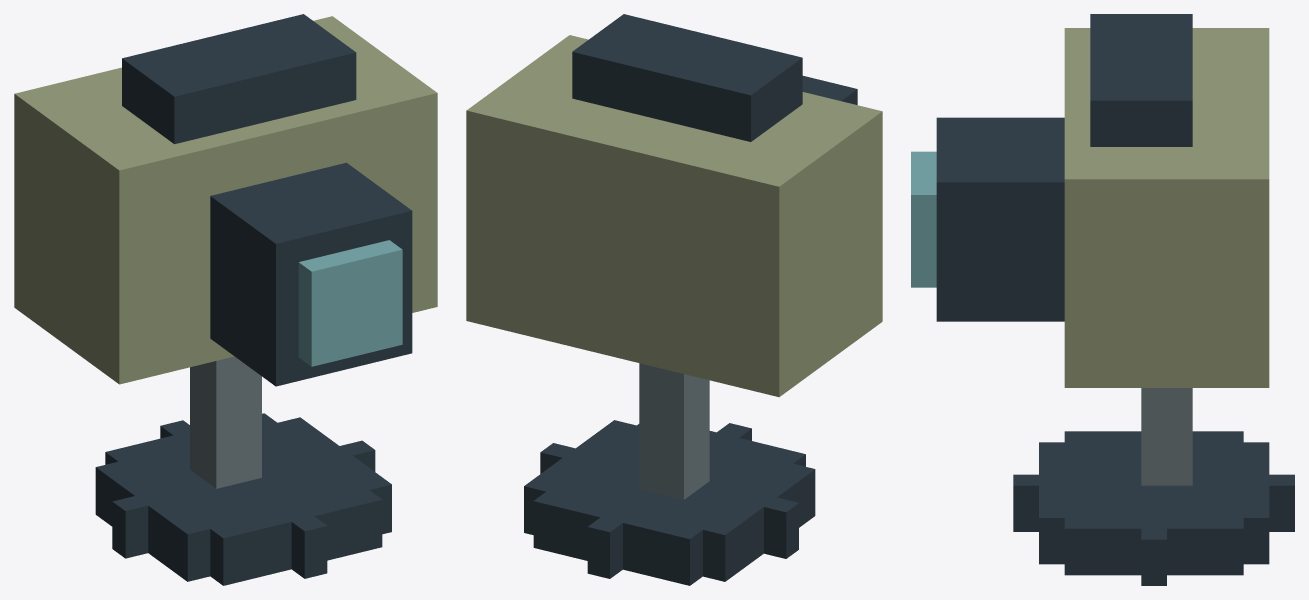
File: property-13.glb
The picture shows the model from 3 angles, left to right: view 1: azimuth 30°, elevation 25°; view 2: azimuth 150°, elevation 25°; view 3: azimuth 270°, elevation 25°; orthographic projection. The views are drawn at different scales.
Parts seen in each view (by area): view 1: Video doorbell; view 2: Video doorbell; view 3: Video doorbell.
Part boxes in pixels (left/top/right/bottom): Video doorbell: left=14, top=14, right=437, bottom=585; Video doorbell: left=466, top=14, right=882, bottom=585; Video doorbell: left=911, top=14, right=1294, bottom=585.
Size of the model in its own units: 1.12 by 1.6 by 1.2.
